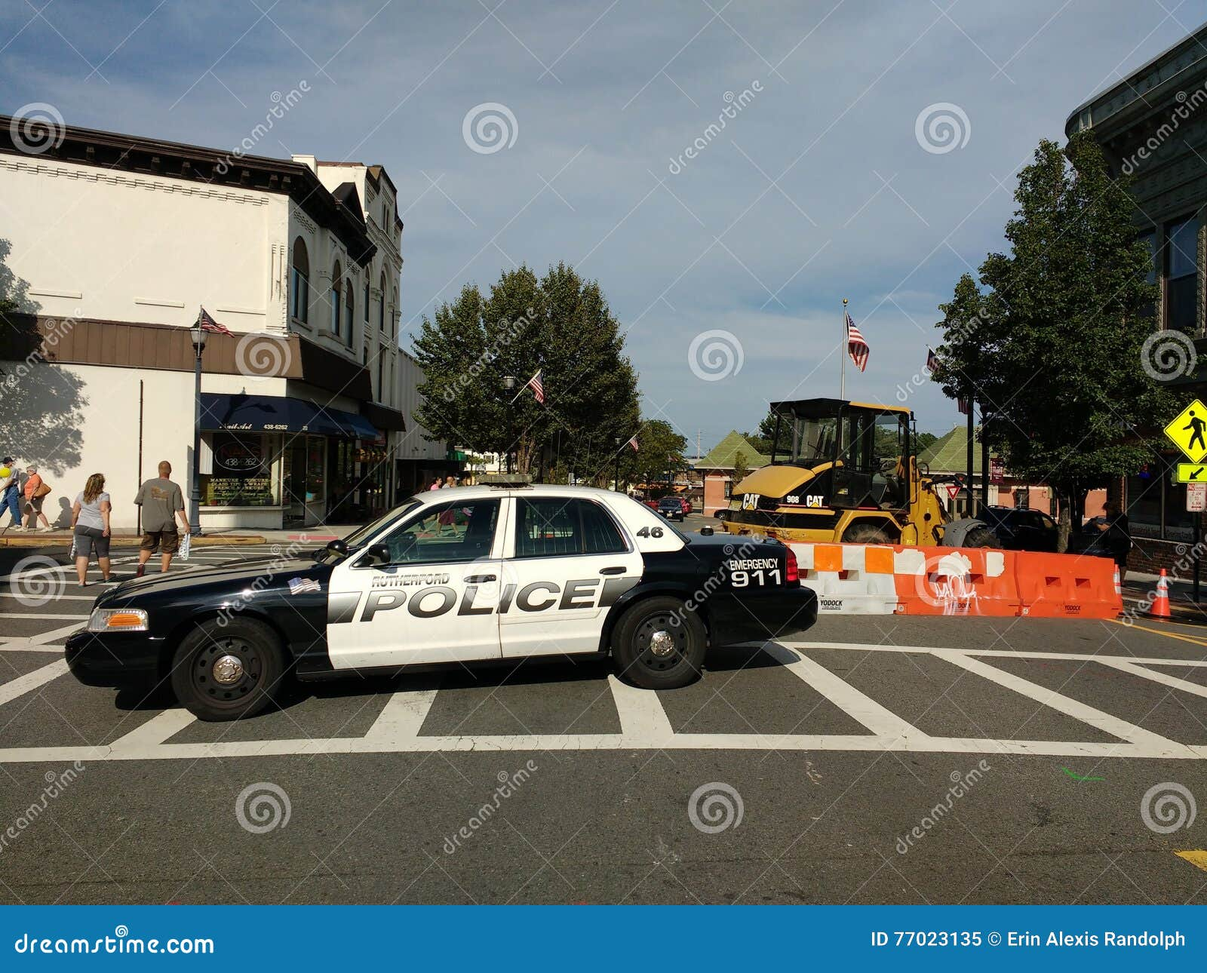Car: (47, 476, 843, 719)
Person: (73, 470, 118, 592), (134, 462, 180, 578)
